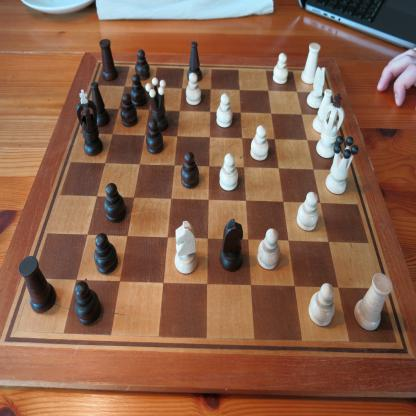black-bishop: (87, 80, 110, 130), (185, 38, 204, 83)
black-king: (70, 93, 102, 163)
black-knight: (220, 216, 247, 274)
black-pawn: (71, 280, 106, 330), (92, 233, 119, 279), (103, 181, 127, 228), (140, 119, 166, 156), (178, 150, 202, 190), (117, 93, 140, 127), (132, 49, 152, 82), (125, 72, 144, 104)
black-queen: (144, 76, 169, 134)
black-rook: (18, 254, 58, 313), (98, 39, 118, 83)
white-bishop: (311, 90, 337, 136)
white-king: (314, 92, 348, 164)
white-knight: (171, 220, 198, 275), (306, 64, 330, 112)
white-pawn: (306, 283, 335, 331), (255, 227, 282, 274), (294, 189, 320, 233), (214, 154, 240, 193), (249, 126, 272, 164), (214, 92, 234, 130), (270, 51, 291, 87), (184, 72, 204, 108)
white-queen: (324, 135, 359, 196)
white-rook: (352, 271, 394, 334), (300, 42, 320, 86)
